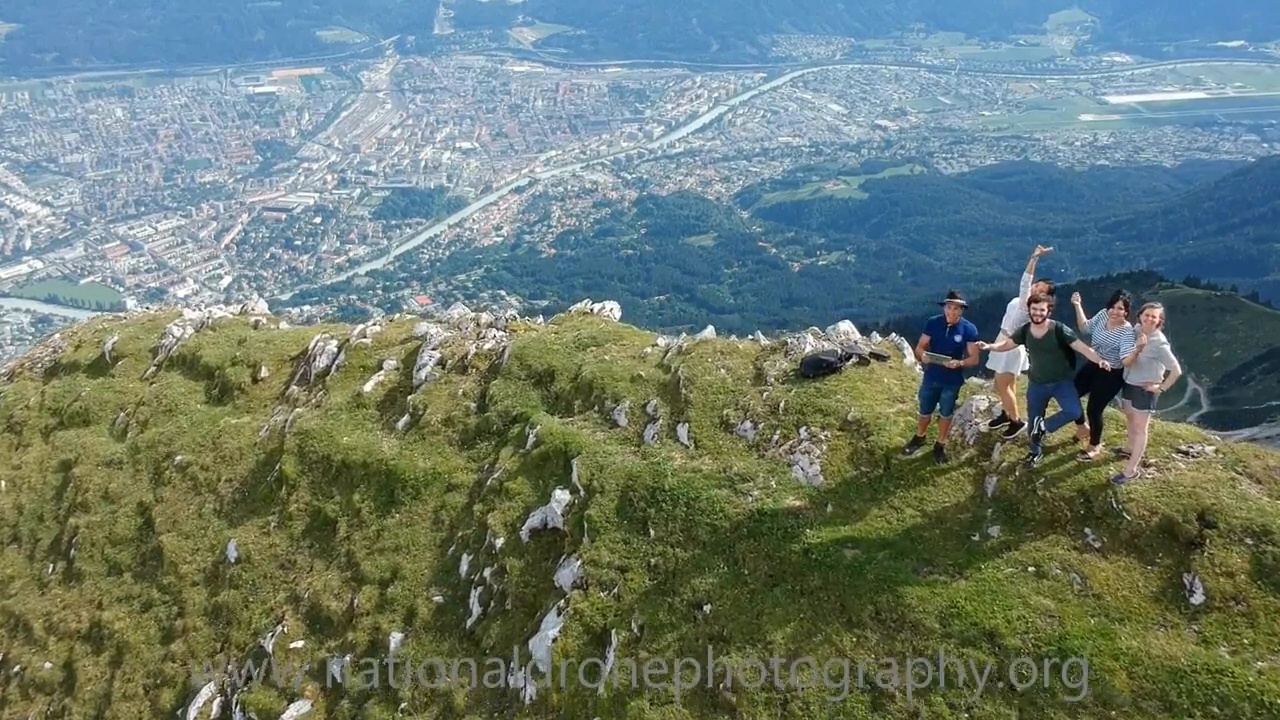insan: (978, 284, 1111, 461), (1106, 293, 1182, 484), (1073, 274, 1141, 473), (904, 289, 982, 461), (989, 244, 1029, 439)
